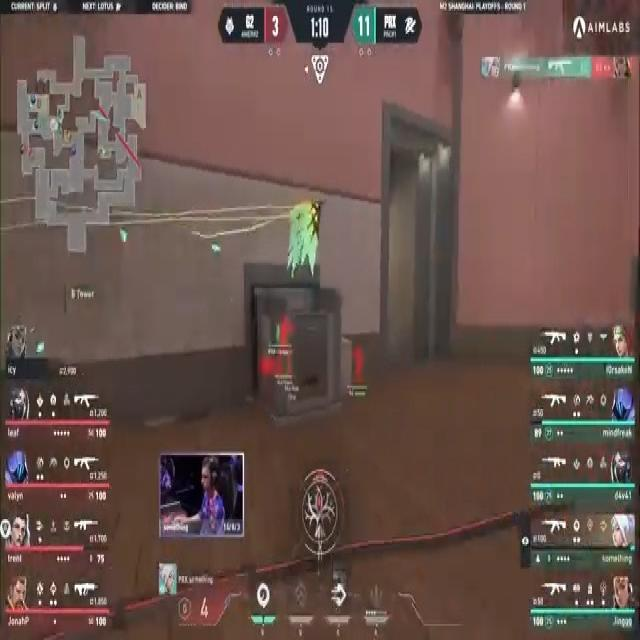enemy behind wall: (278, 308, 292, 353), (355, 341, 364, 383)
